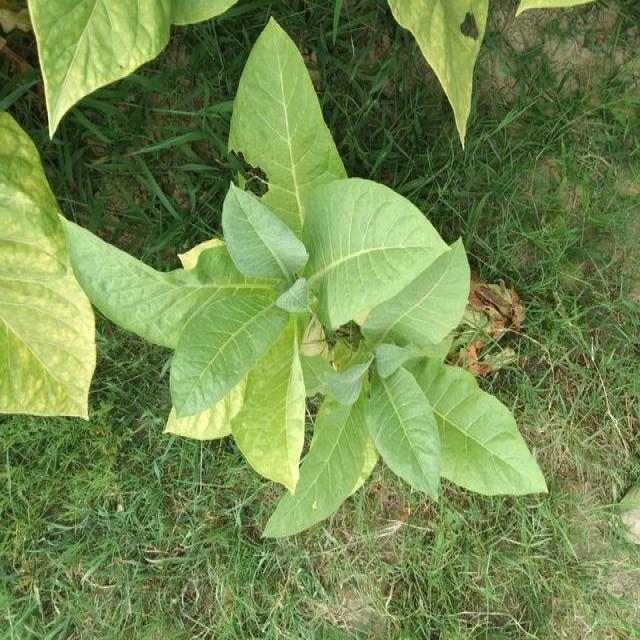crop: (158, 11, 554, 543)
